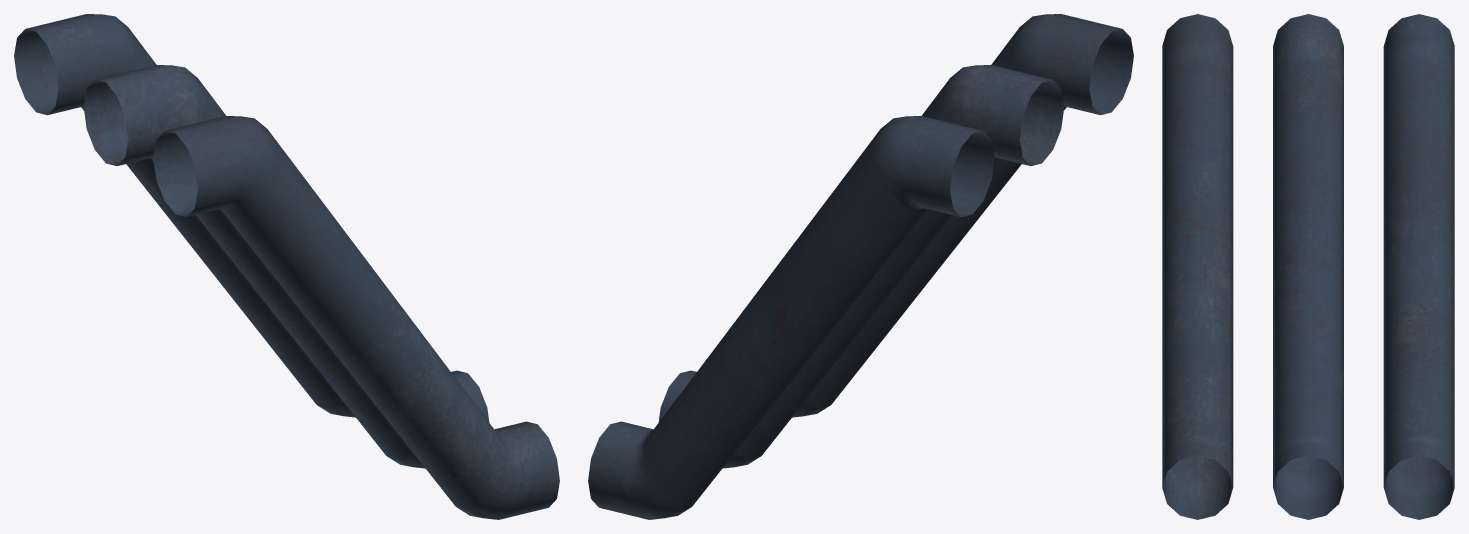
Rendered from PIpe3_Courner7_L0.fbx.
3 renders of one model, left to right at view 1: azimuth 30°, elevation 25°; view 2: azimuth 150°, elevation 25°; view 3: azimuth 270°, elevation 25°, orthographic. The views are drawn at different scales.
Visible parts, largest first — view 1: PIpe3_Courner7_L0; view 2: PIpe3_Courner7_L0; view 3: PIpe3_Courner7_L0.
Boxes of the visible parts, bbox=[...] form: PIpe3_Courner7_L0: bbox=[14, 14, 559, 519]; PIpe3_Courner7_L0: bbox=[588, 14, 1133, 519]; PIpe3_Courner7_L0: bbox=[1162, 14, 1454, 519].
Size of the model in its own units: 50 by 60.66 by 43.99.
